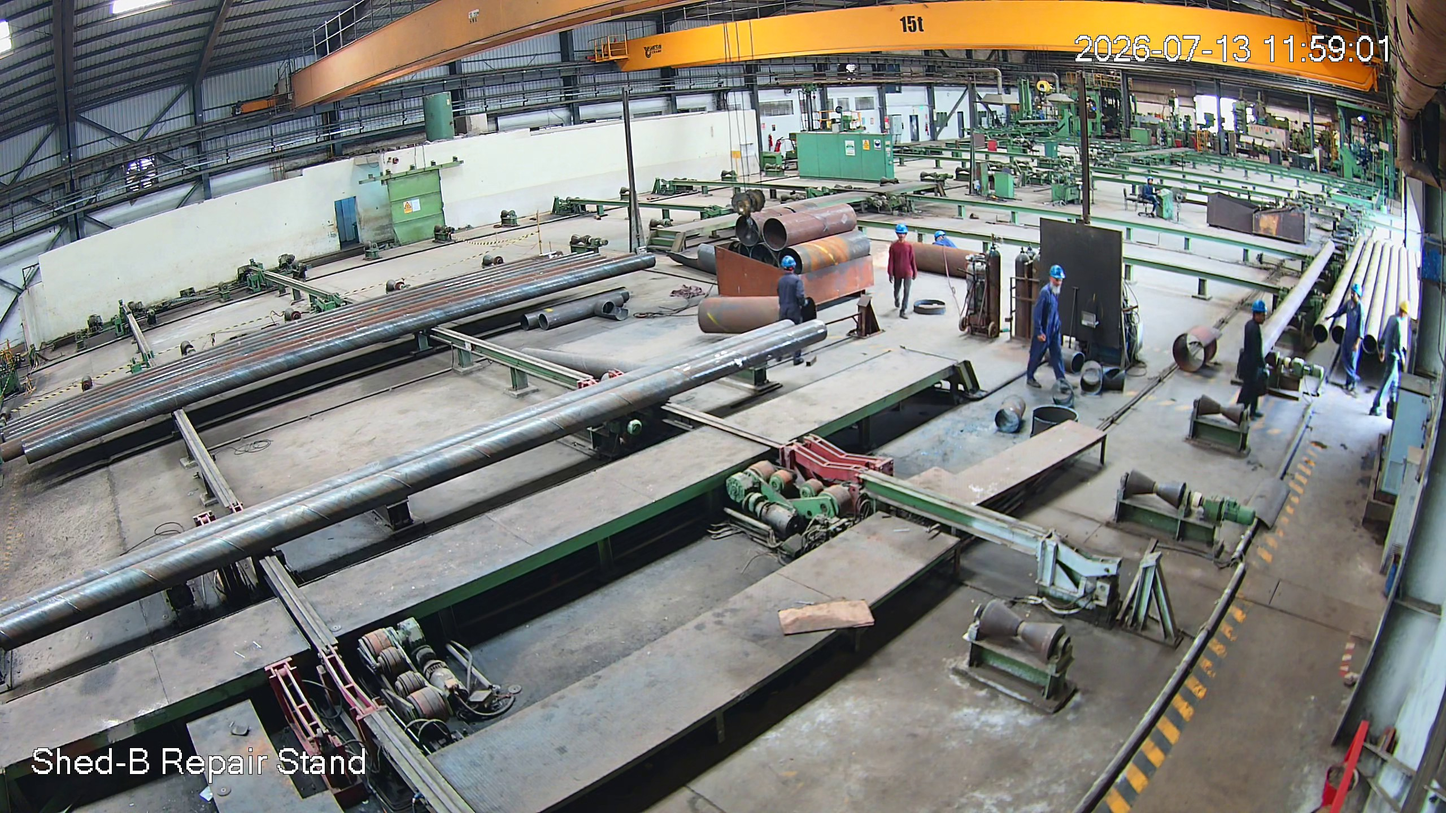Helmet: (1048, 262, 1068, 301)
Person: (1022, 267, 1072, 400)
